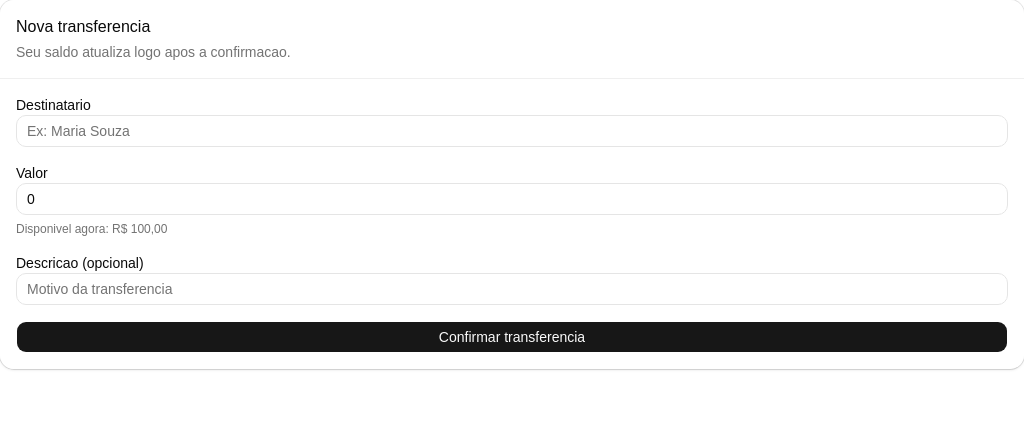
Test: TransferForm › submits transfer and shows success feedback
Type "Joao Silva" into the field labelled "Destinatario".
click(512, 131); type("Joao Silva")  # box left=16, top=115, right=1008, bottom=147
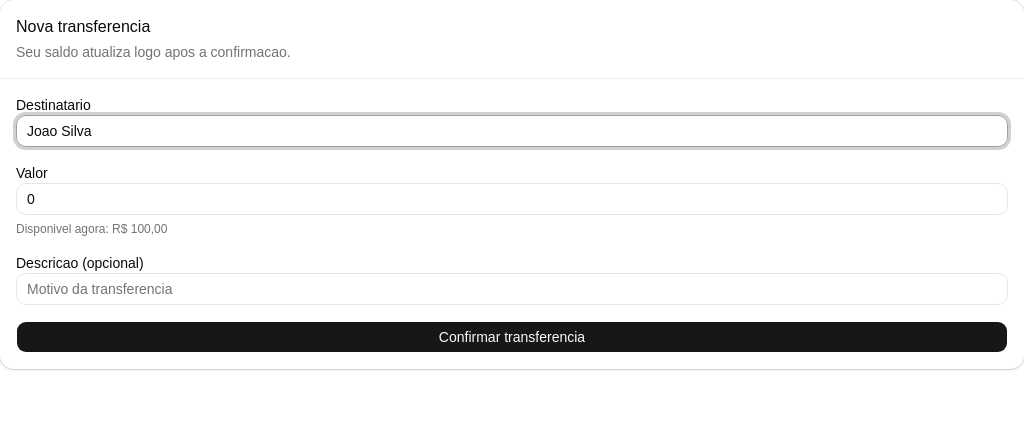
Replace the text in the number field labelled "Valor" with "50" at (512, 199), box left=16, top=183, right=1008, bottom=215
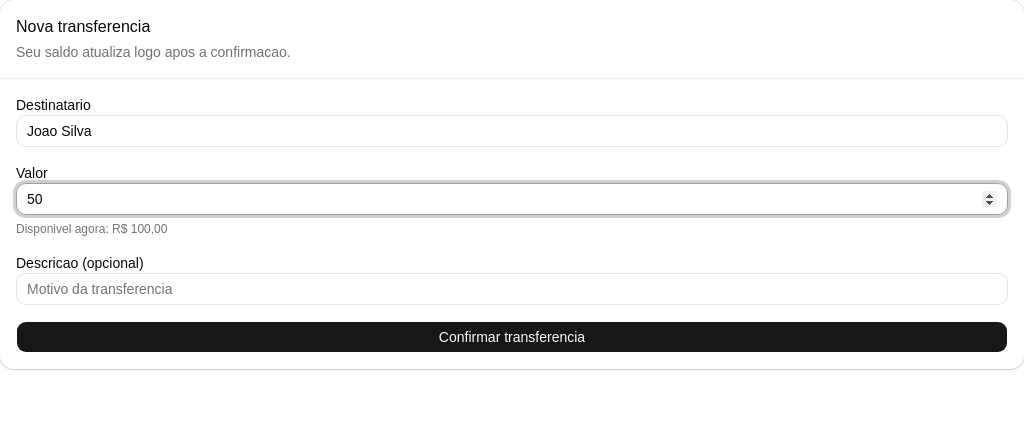
Click the button "Confirmar transferencia".
click(512, 337)  # box left=16, top=321, right=1008, bottom=353
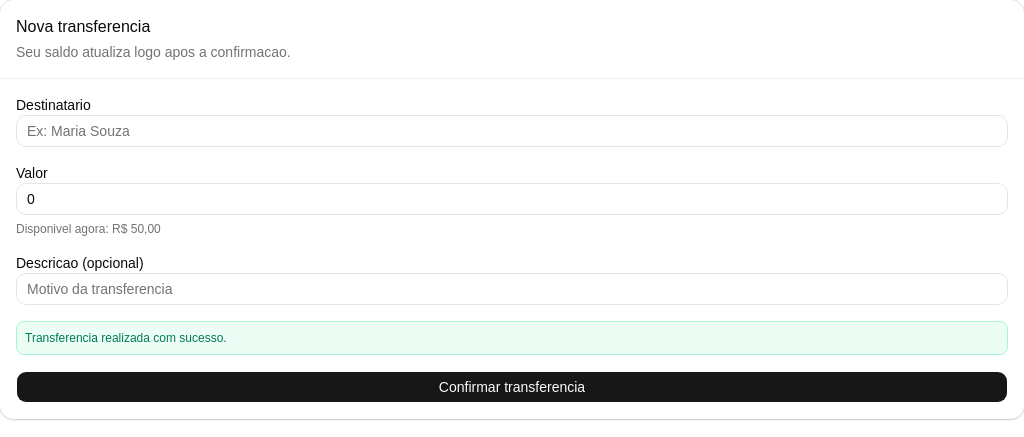
Expected: the text "Transferencia realizada com sucesso." is shown, left=16, top=321, right=1008, bottom=355
